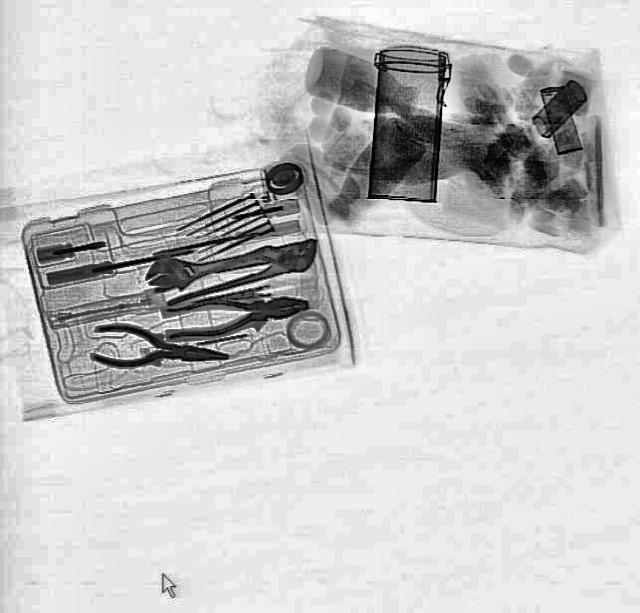Pliers: (162, 284, 310, 341), (89, 320, 229, 378)
Wrench: (142, 231, 312, 294)
